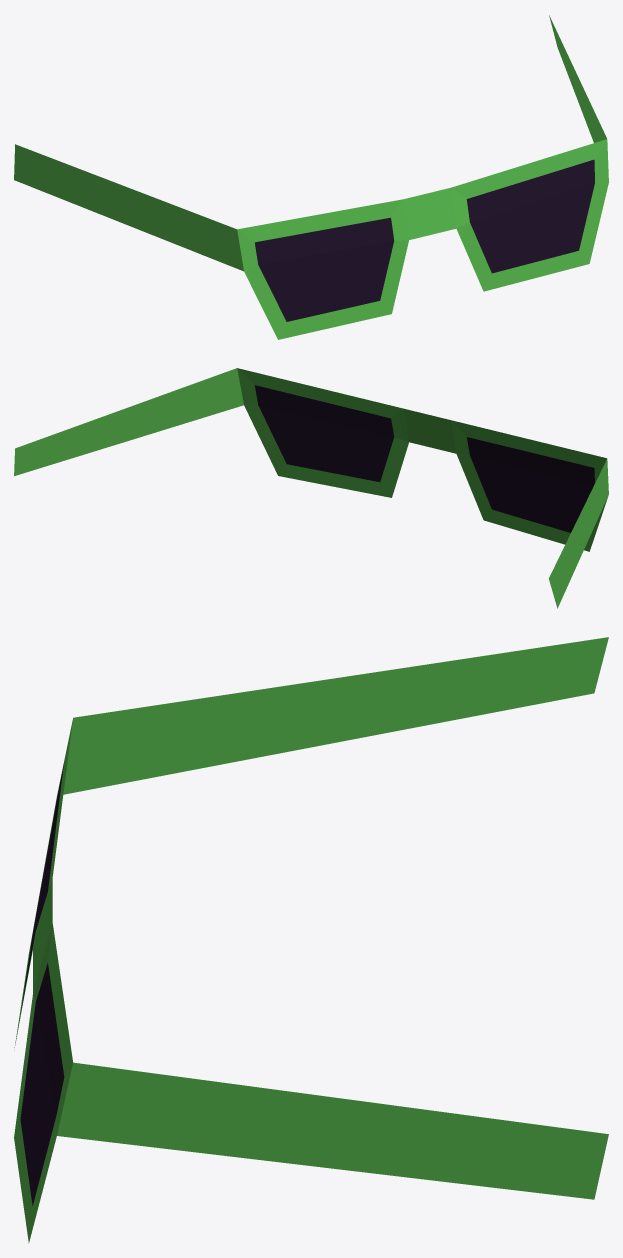
File: glasses_02.glb
The picture shows the model from 3 angles, top to bottom: view 1: azimuth 30°, elevation 25°; view 2: azimuth 150°, elevation 25°; view 3: azimuth 270°, elevation 25°; orthographic projection. The views are drawn at different scales.
Visible parts, largest first — view 1: glasses_02; view 2: glasses_02; view 3: glasses_02.
Part boxes in pixels (left/top/right/bottom): glasses_02: left=14, top=15, right=608, bottom=339; glasses_02: left=14, top=368, right=608, bottom=608; glasses_02: left=14, top=637, right=608, bottom=1243.
Bounding box in the file's own units: 1.05 × 0.2053 × 0.5193.
1 material, 1 textured.
